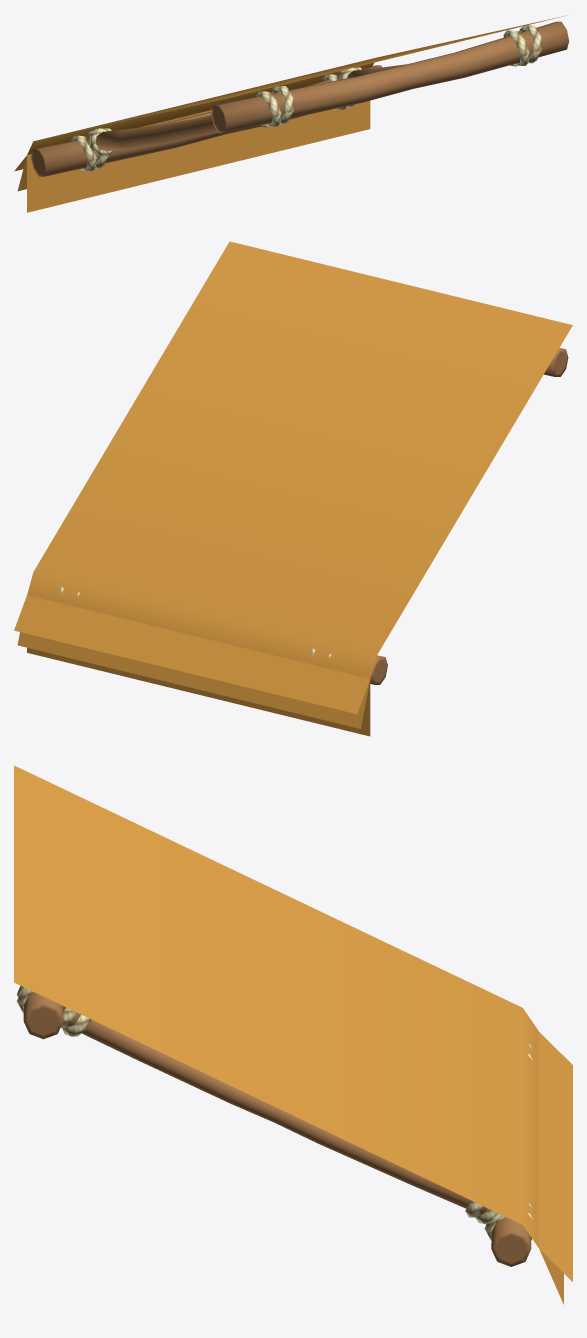
The model's file is H_Roof_02.fbx.
3 views of the same model, one above another, from view 1: azimuth 30°, elevation 25°; view 2: azimuth 150°, elevation 25°; view 3: azimuth 270°, elevation 25° (orthographic). The views are drawn at different scales.
Visible parts, largest first — view 1: H_Roof_02; view 2: H_Roof_02; view 3: H_Roof_02.
Part boxes in pixels (box(x1,y1,x2,y2)): H_Roof_02: box(14, 15, 569, 212); H_Roof_02: box(14, 241, 572, 736); H_Roof_02: box(14, 765, 572, 1304).
Size of the model in its own units: 200 by 147 by 218.
